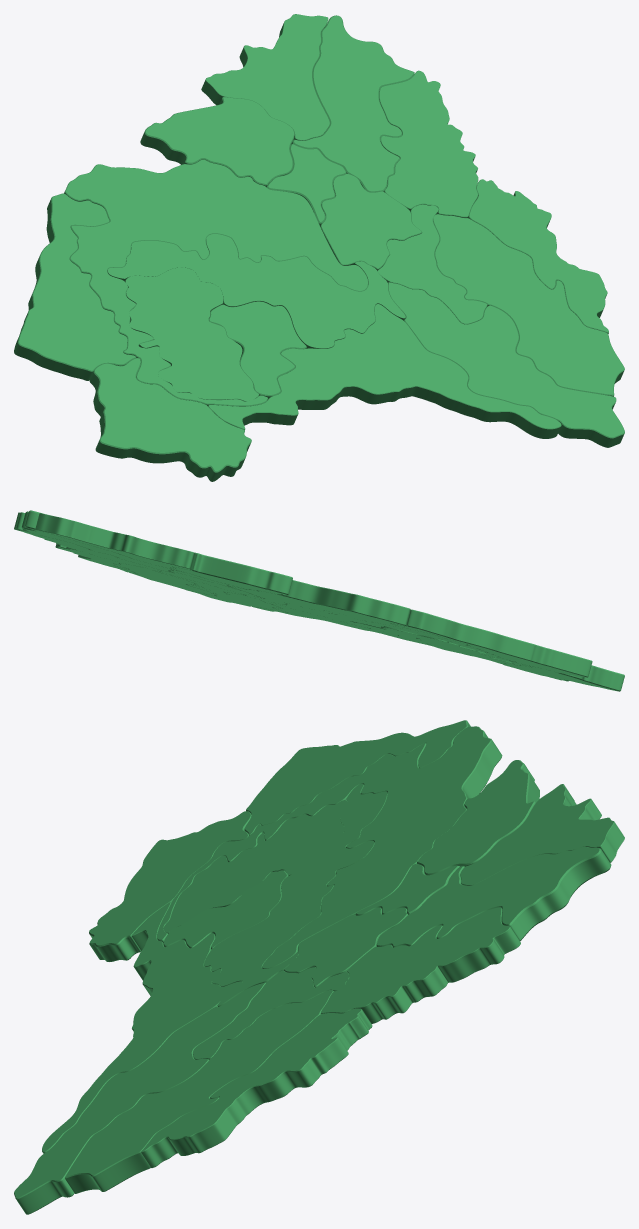
File: PetaPurwakarta.glb
3 renders of one model, top to bottom at view 1: azimuth 30°, elevation 25°; view 2: azimuth 150°, elevation 25°; view 3: azimuth 270°, elevation 25°, orthographic. The views are drawn at different scales.
Visible parts, largest first — view 1: Jatiluhur, darangdan, Wanayasa, Sukatani, Bojong, Sukasari, Maniis, Campaka, tegalwaru, Cibatu, Babakancikao, Bungursari (+5 smaller); view 2: Sukasari, Jatiluhur, Bungursari, Babakancikao, Maniis, Campaka, Wanayasa, Sukatani, darangdan, tegalwaru, Cibatu, Bojong (+3 smaller); view 3: Jatiluhur, Wanayasa, Cibatu, Kiarapedes, Campaka, Bojong, darangdan, Sukatani, tegalwaru, Maniis, Sukasari, Bungursari (+5 smaller).
Boxes of the visible parts, x1=… form: Jatiluhur: x1=64, y1=159, x2=368, y2=406; darangdan: x1=208, y1=304, x2=561, y2=438; Wanayasa: x1=433, y1=214, x2=624, y2=396; Sukatani: x1=107, y1=234, x2=405, y2=348; Bojong: x1=388, y1=282, x2=624, y2=447; Sukasari: x1=14, y1=193, x2=136, y2=380; Maniis: x1=89, y1=358, x2=251, y2=481; Campaka: x1=291, y1=15, x2=414, y2=192; tegalwaru: x1=125, y1=267, x2=258, y2=401; Cibatu: x1=379, y1=70, x2=478, y2=217; Babakancikao: x1=140, y1=97, x2=294, y2=186; Bungursari: x1=201, y1=14, x2=329, y2=140; Sukasari: x1=391, y1=609, x2=592, y2=677; Jatiluhur: x1=229, y1=580, x2=531, y2=667; Bungursari: x1=35, y1=513, x2=196, y2=570; Babakancikao: x1=171, y1=552, x2=292, y2=595; Maniis: x1=500, y1=661, x2=624, y2=691; Campaka: x1=22, y1=510, x2=182, y2=572; Wanayasa: x1=114, y1=563, x2=216, y2=595; Sukatani: x1=243, y1=594, x2=451, y2=641; darangdan: x1=252, y1=603, x2=505, y2=664; tegalwaru: x1=380, y1=626, x2=514, y2=664; Cibatu: x1=14, y1=512, x2=161, y2=570; Bojong: x1=185, y1=584, x2=287, y2=612; Jatiluhur: x1=157, y1=726, x2=502, y2=968; Wanayasa: x1=65, y1=990, x2=333, y2=1193; Cibatu: x1=321, y1=907, x2=520, y2=1023; Kiarapedes: x1=141, y1=1008, x2=372, y2=1167; Campaka: x1=376, y1=846, x2=611, y2=947; Bojong: x1=14, y1=982, x2=265, y2=1214; darangdan: x1=42, y1=902, x2=242, y2=1153; Sukatani: x1=204, y1=784, x2=387, y2=1006; tegalwaru: x1=163, y1=800, x2=347, y2=933; Maniis: x1=89, y1=811, x2=251, y2=961; Sukasari: x1=244, y1=720, x2=470, y2=835; Bungursari: x1=460, y1=784, x2=624, y2=885.
Bounding box in the file's own units: 5.16 × 2.5 × 4.06.
